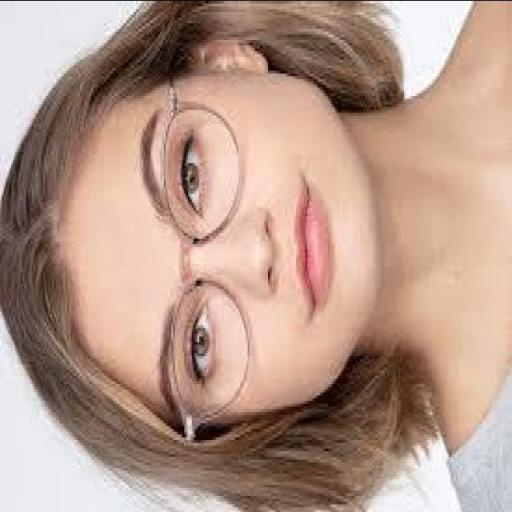glasses: (158, 63, 252, 460)
